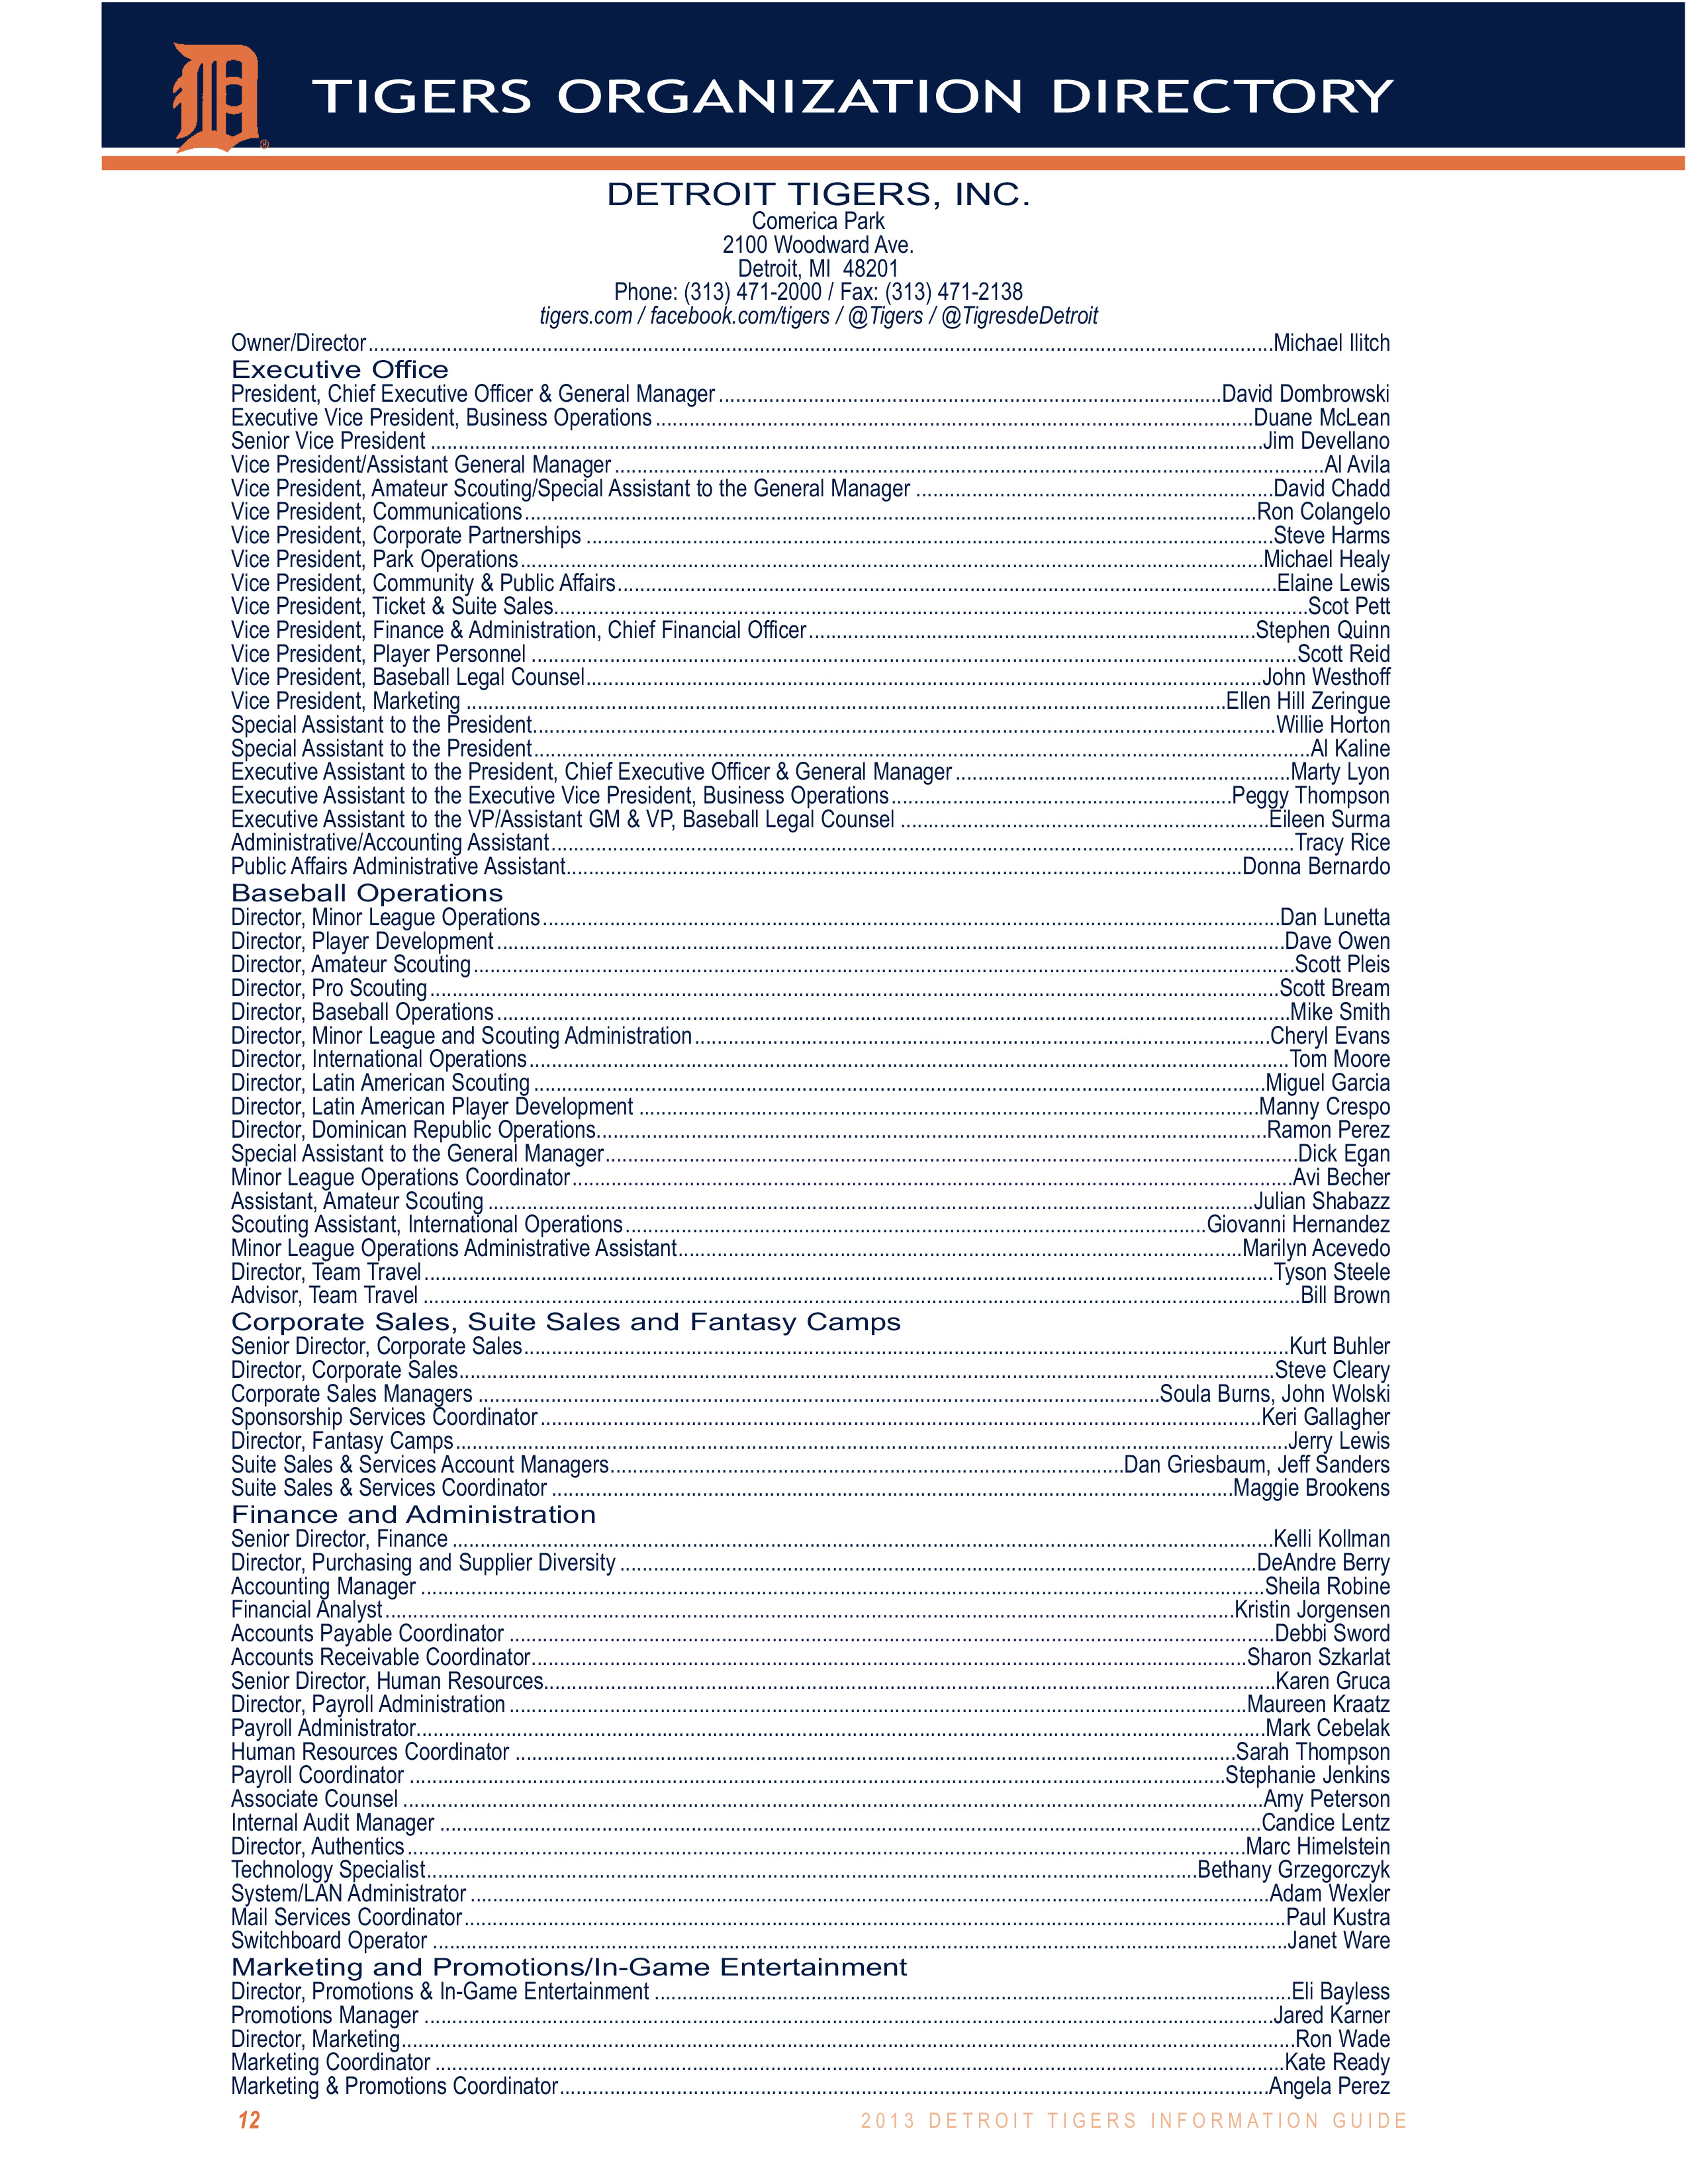figure: (174, 37, 266, 156)
section: (310, 50, 1395, 133), (583, 174, 1085, 326)
table: (231, 333, 1406, 2090)
